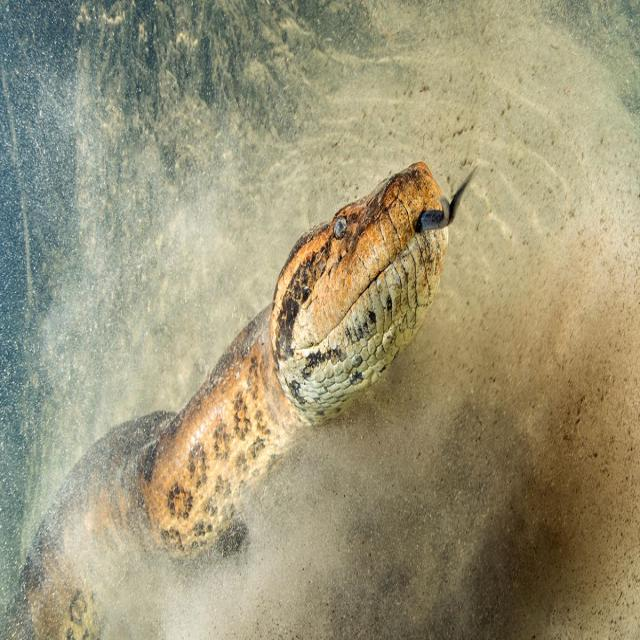Snake: (34, 148, 474, 640)
